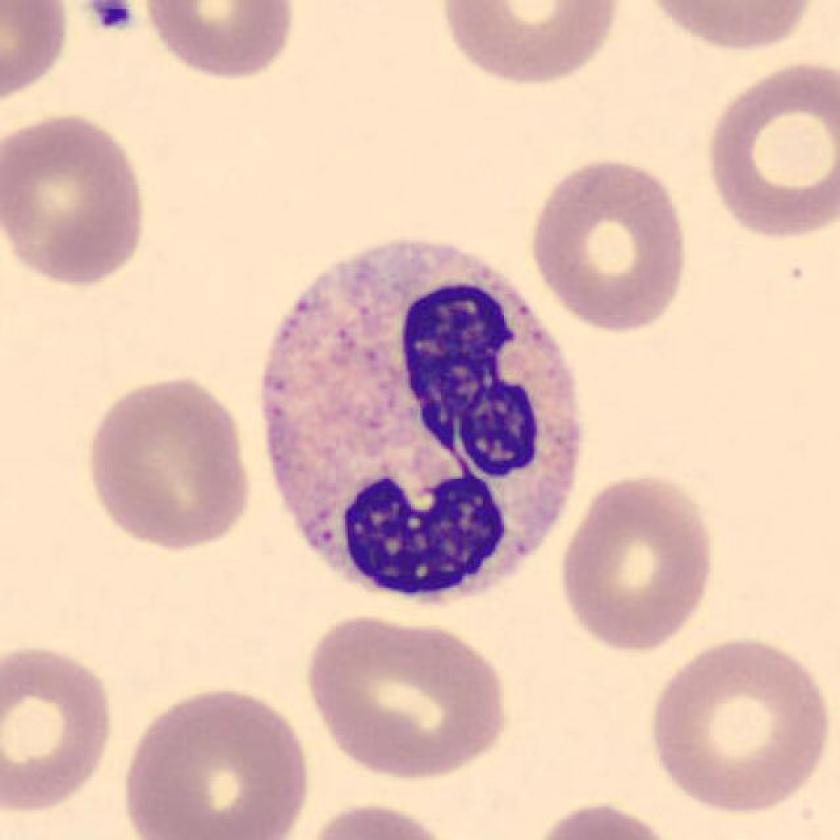neutrophil: (258, 239, 585, 612)
